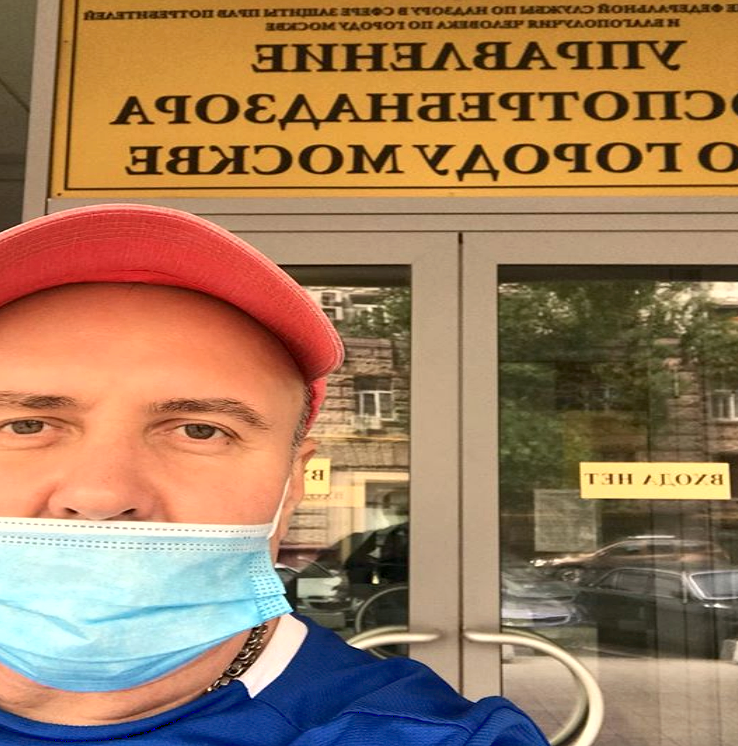mask_weared_incorrect: (0, 240, 315, 683)
